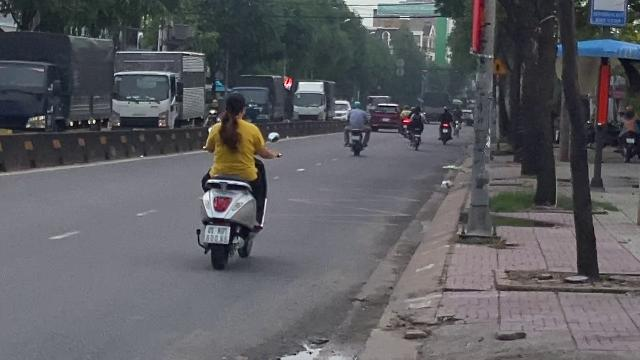licenseplate: (204, 226, 230, 244)
motorcyclist: (194, 89, 272, 269)
nohelmet: (221, 91, 247, 121)
